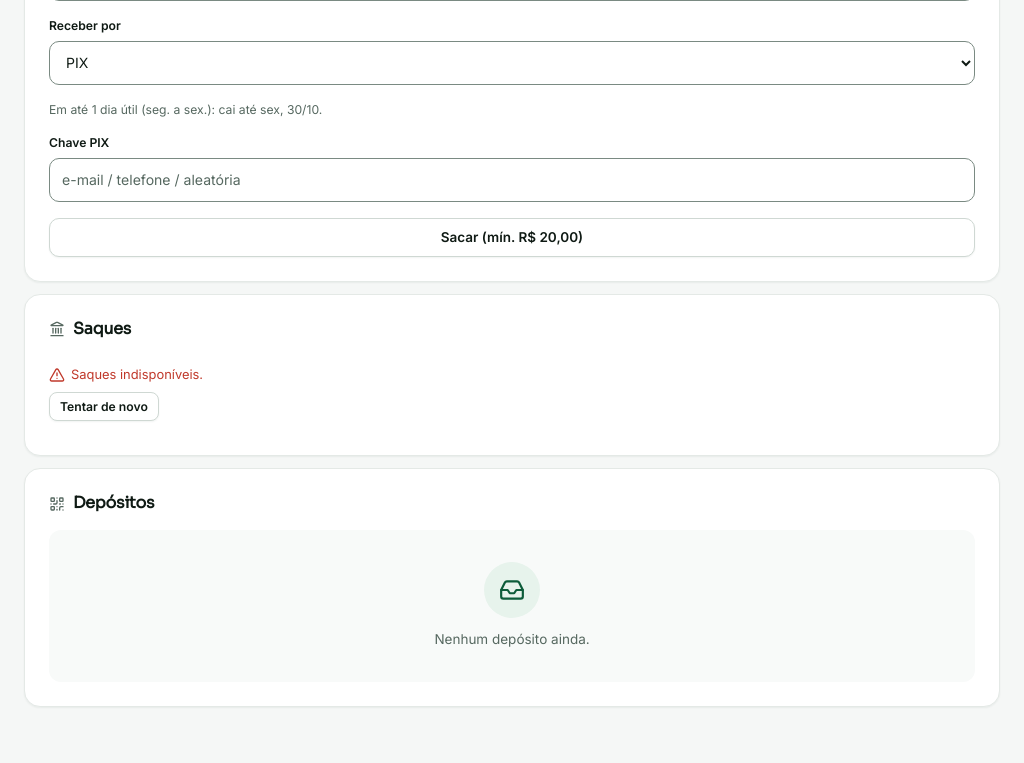
Test: CarteiraView: saldos e estados › falha em Saques: o erro aparece só naquele cartão e "Tentar de novo" refaz só aquela busca
(page scrolled)
expect the message shows "Saques indisponíveis.": met, box [71,366,203,382]
expect the number of messages is 1: met, box [49,366,203,421]
Click the button "Tentar de novo".
click(104, 407)  # box [49,392,159,421]
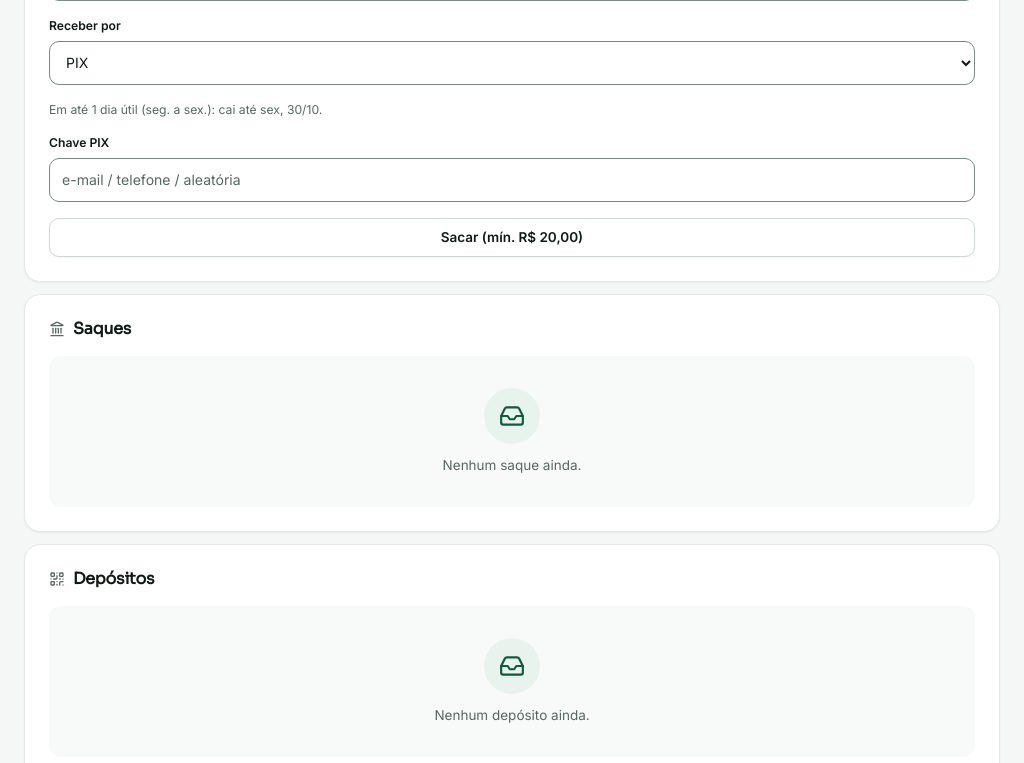
expect the text "Nenhum saque ainda." is shown: met, box [443,456,581,475]
